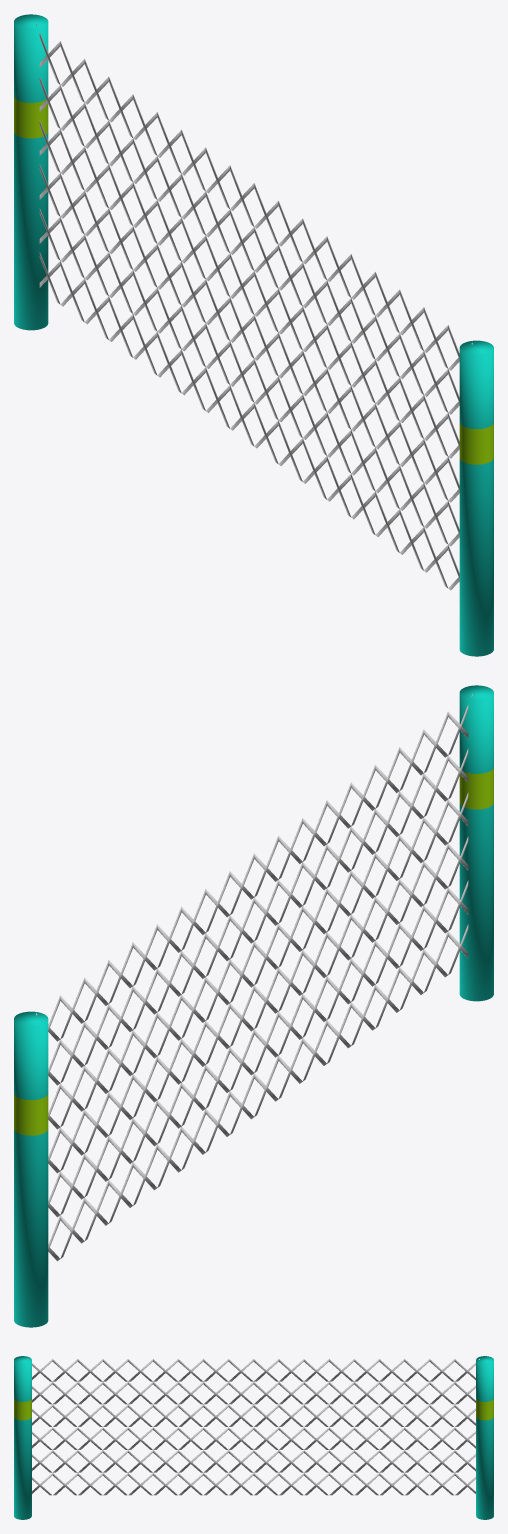
The model's file is VolleyNet.fbx.
3 renders of one model, top to bottom at view 1: azimuth 30°, elevation 25°; view 2: azimuth 150°, elevation 25°; view 3: azimuth 270°, elevation 25°, orthographic. The views are drawn at different scales.
Visible parts, largest first — view 1: Cylinder; view 2: Cylinder; view 3: Cylinder.
Boxes of the visible parts, x1,y1,x2,y2 form: Cylinder: (14, 14, 493, 656); Cylinder: (14, 685, 493, 1327); Cylinder: (14, 1356, 493, 1519).
Size of the model in its own units: 61.83 by 601 by 1661.
